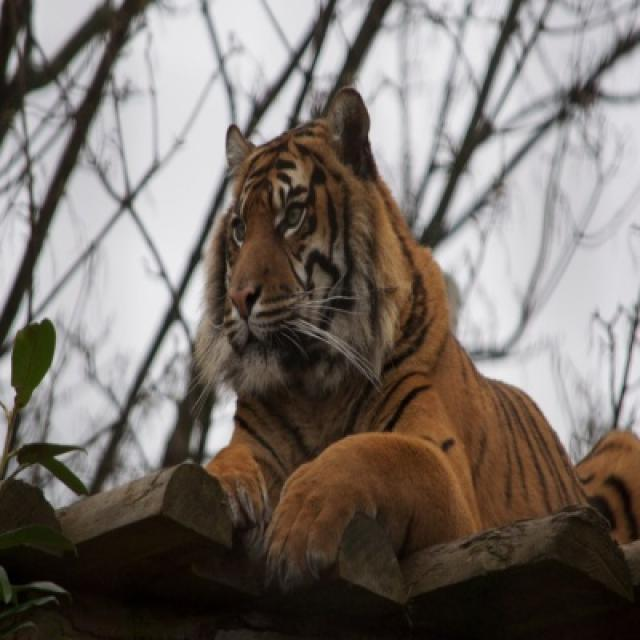Tiger: (210, 82, 638, 584)
